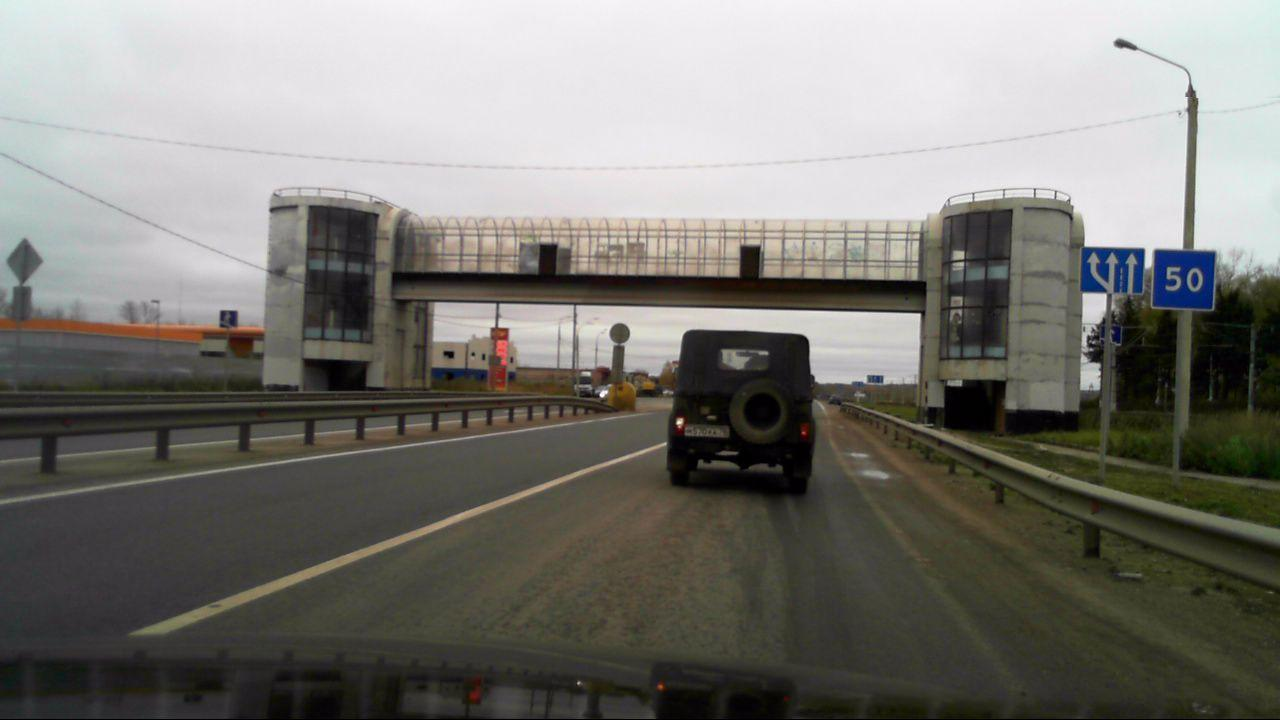5_15_1: (1081, 244, 1145, 297), (866, 375, 885, 384), (851, 382, 865, 387)
6_2: (1151, 250, 1213, 310)
6_7: (1102, 324, 1122, 347), (221, 309, 239, 326)
